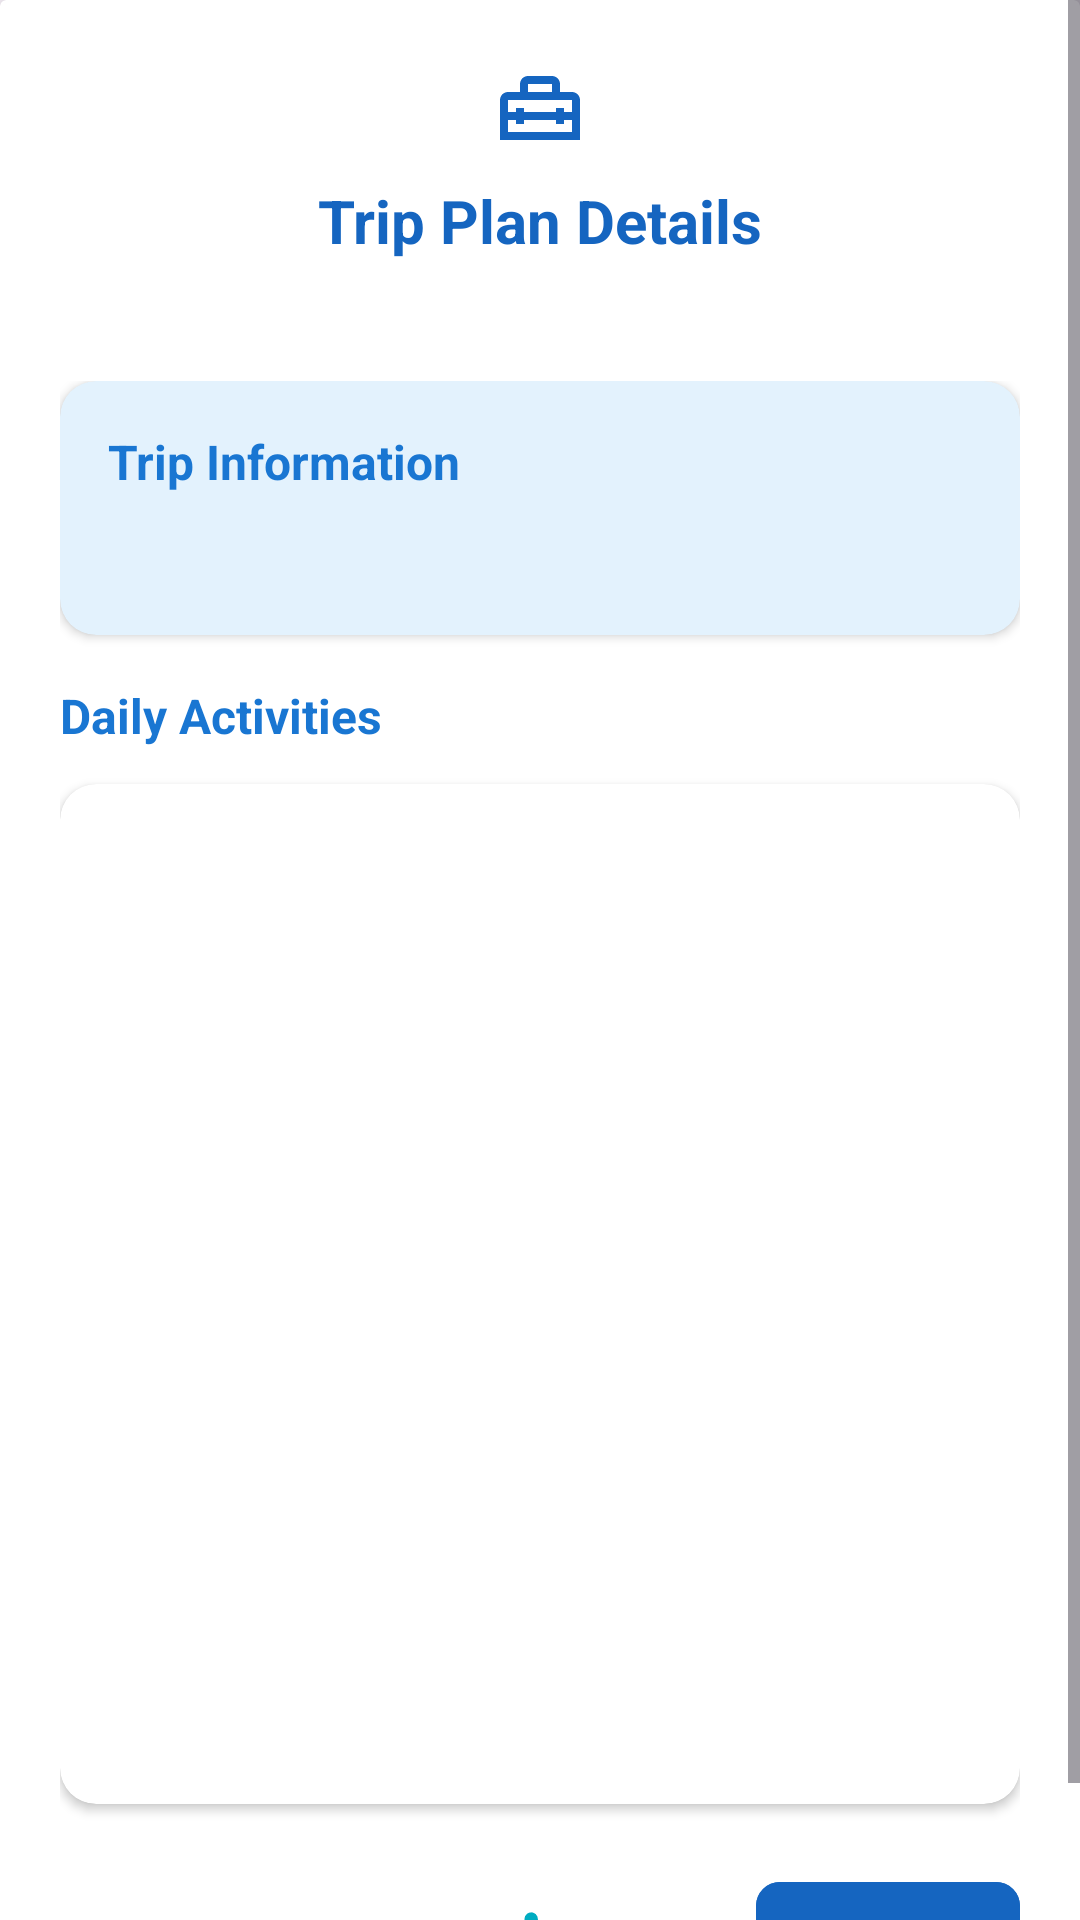

Icon click points for this 1080*1920 phone screenshot, format (x,y):
travel: (540,108)
